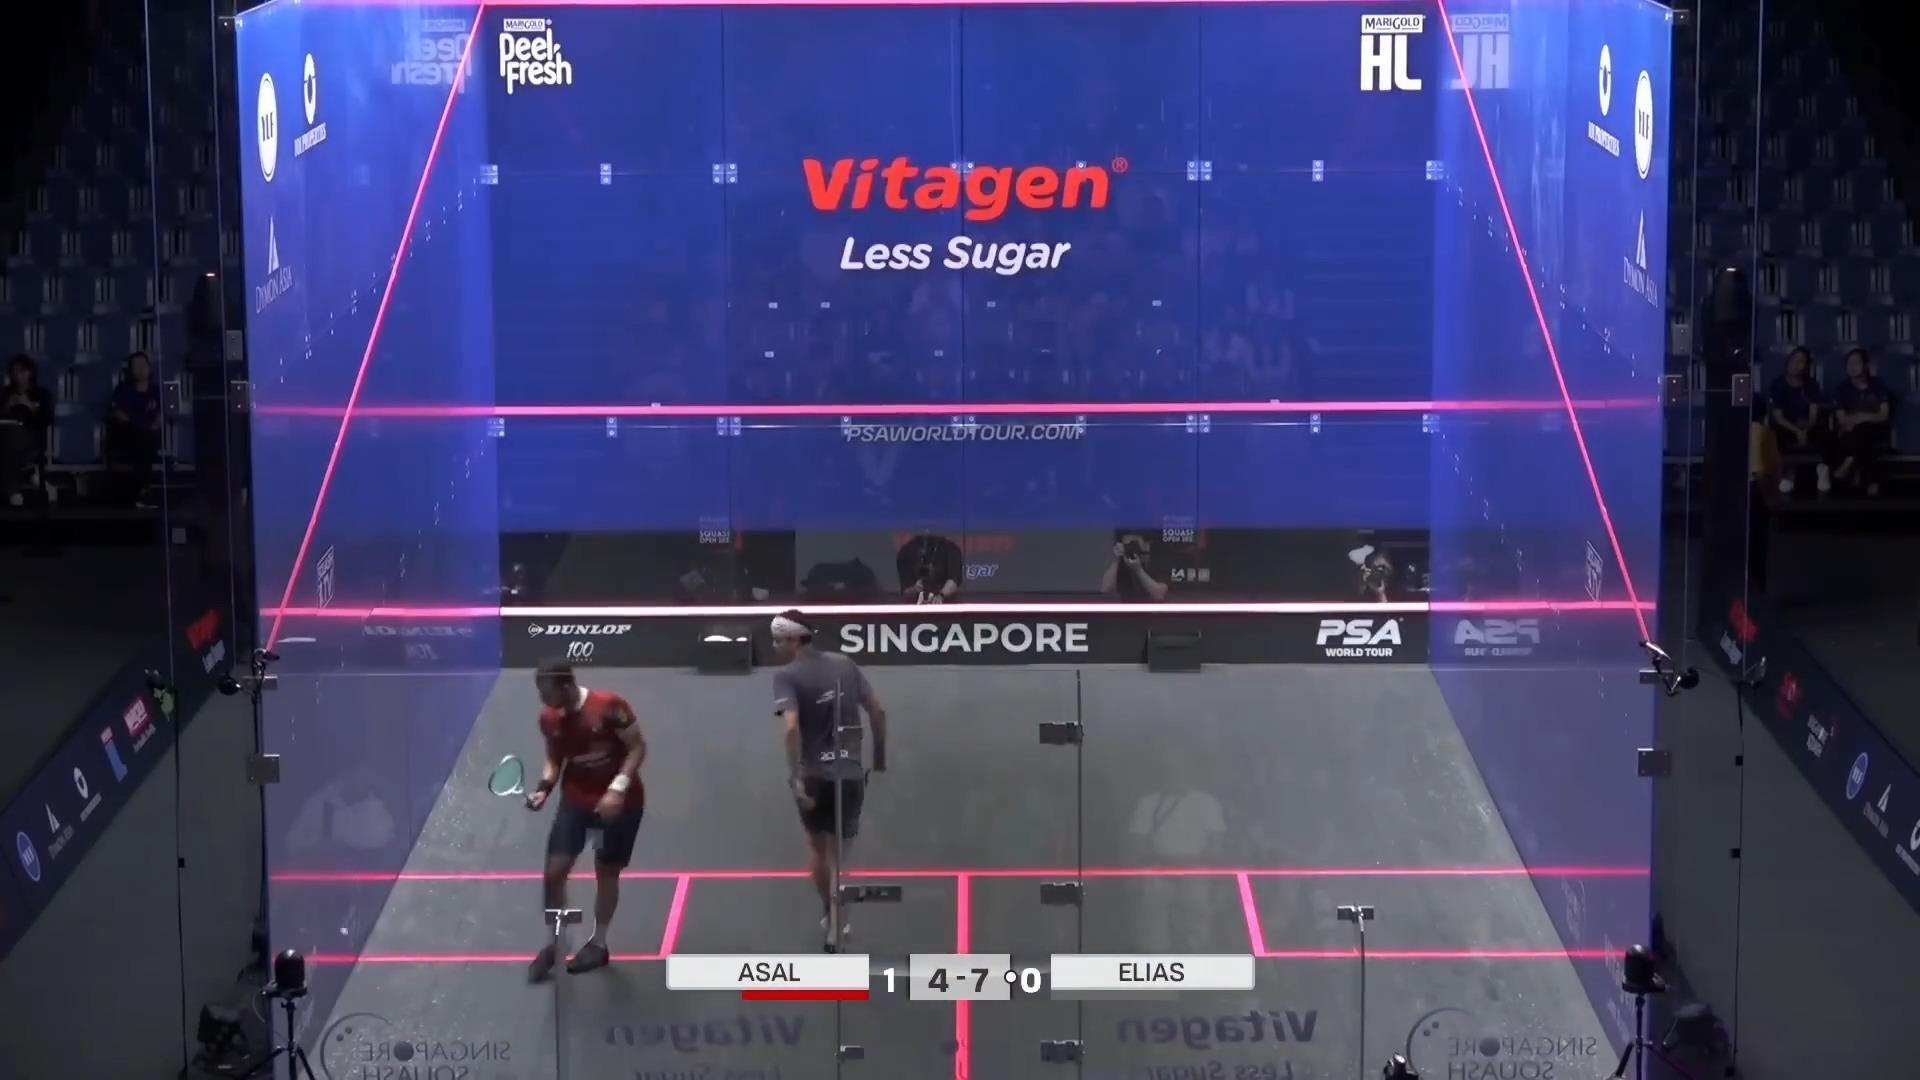Squash-Ball: (323, 915, 368, 949)
